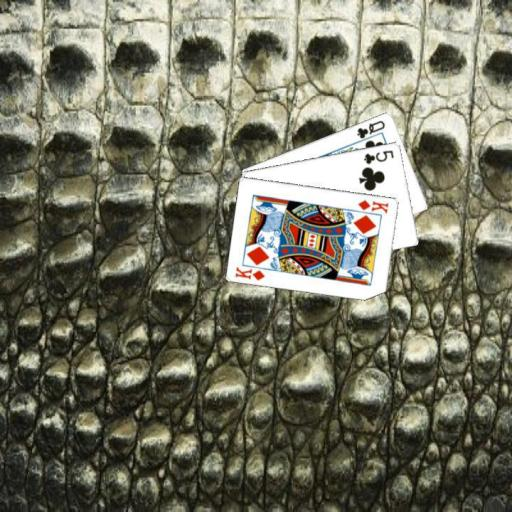5C: (361, 146, 396, 165)
KD: (355, 196, 390, 215), (232, 264, 267, 282)
QC: (354, 117, 386, 140)
